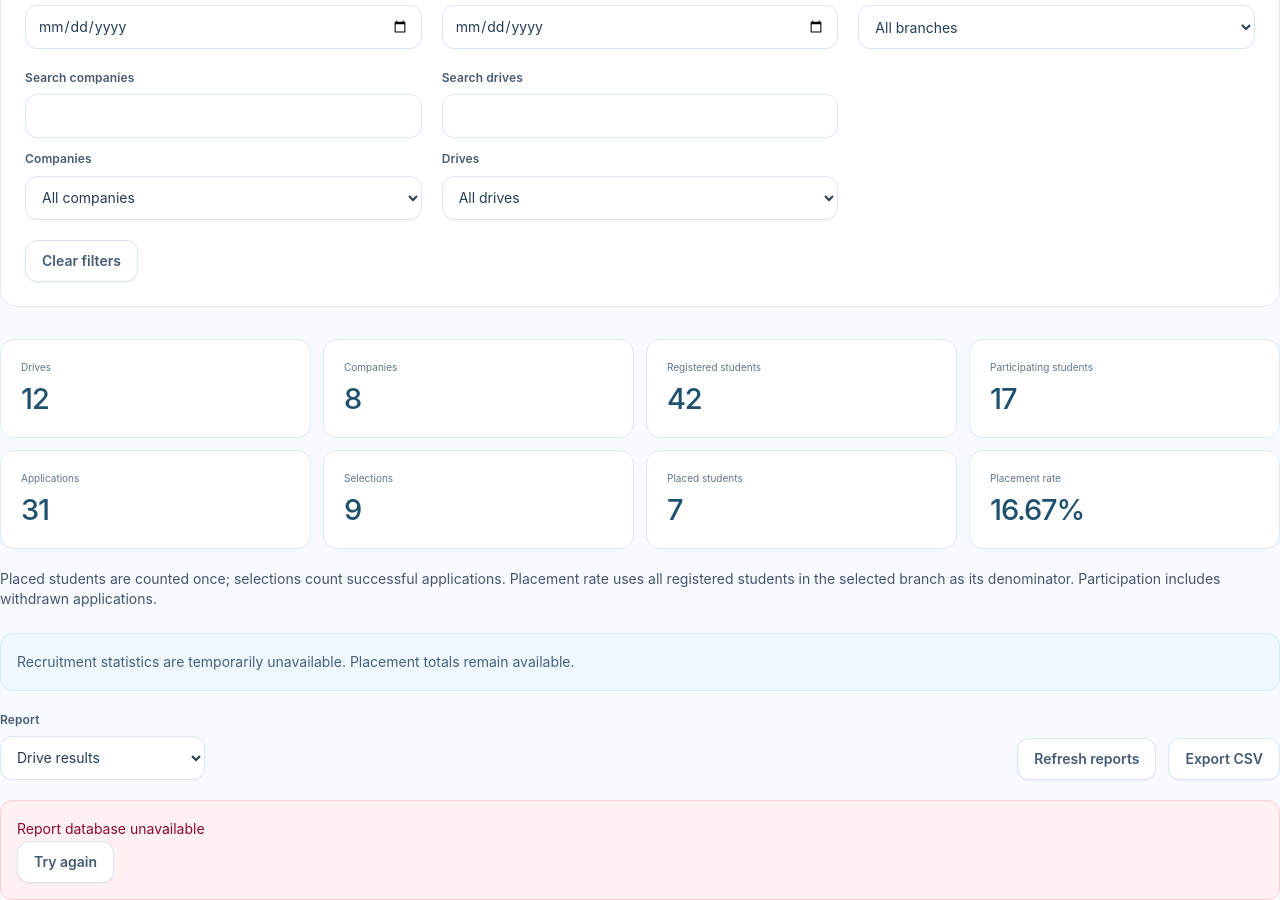
Test case: keeps SQL totals visible on Mongo degradation and retries errors to an explicit empty state
The width and height of the screenshot is (1280, 900).
(page scrolled)
Expected: the text "Report database unavailable" is shown, [17,820,205,837]
Expected: the text "Recruitment statistics are temporarily unavailable" is shown, [17,653,575,670]
Click the button "Try again".
click(66, 862)  # box [17,841,114,883]
(page scrolled)
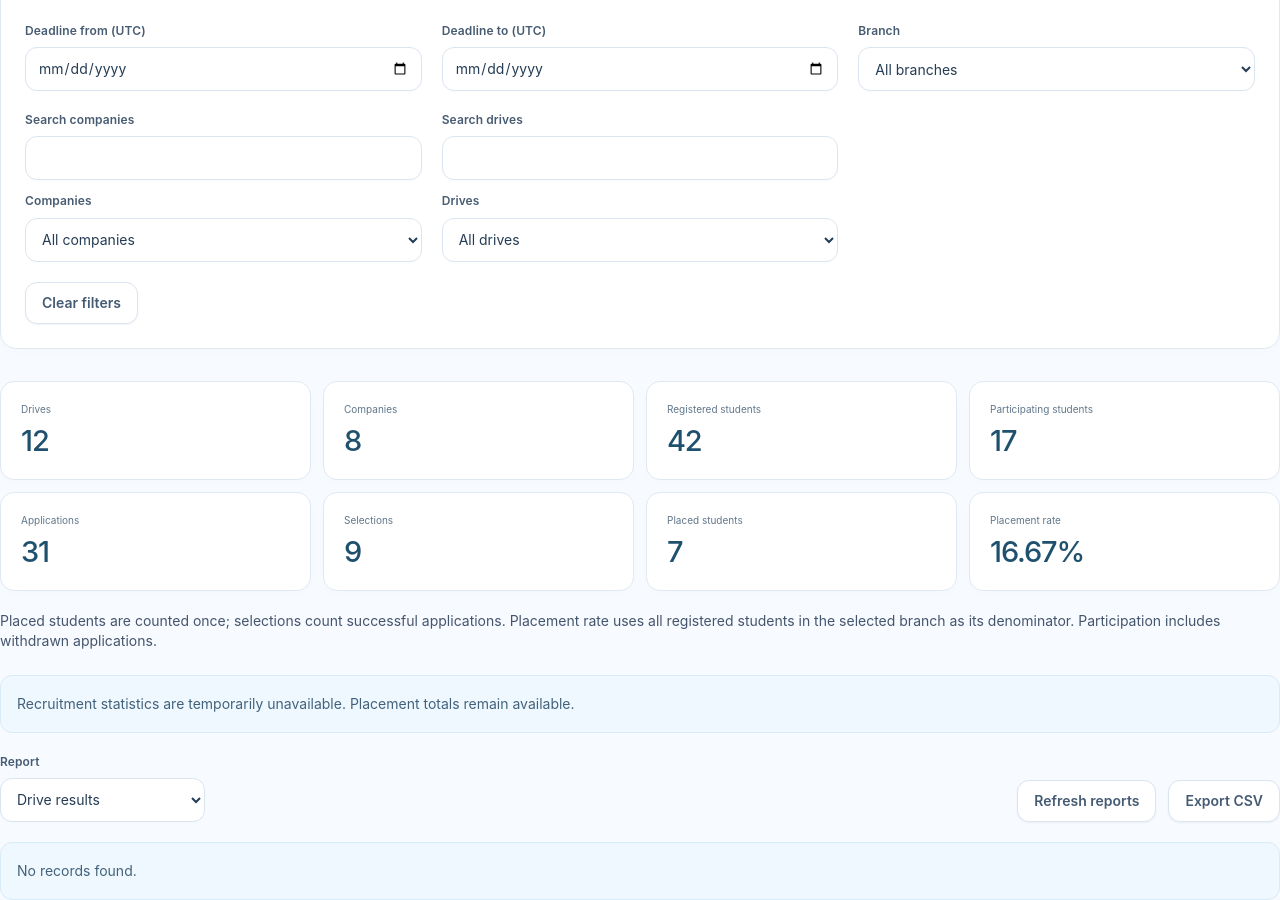
Expected: the text "No records found." is shown, [0,842,1279,899]
